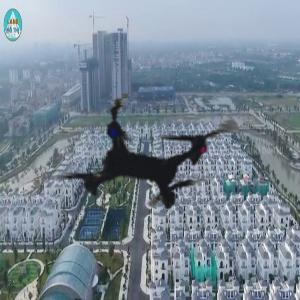drone: (10, 21, 287, 298)
